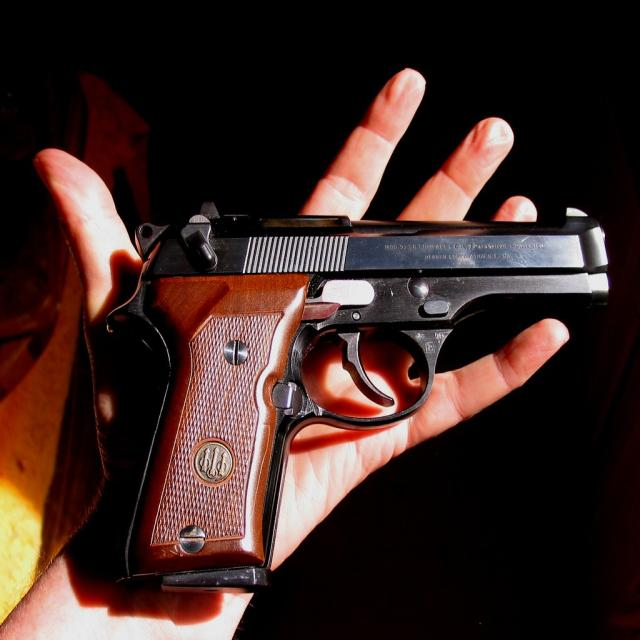HandGun: (109, 201, 611, 591)
